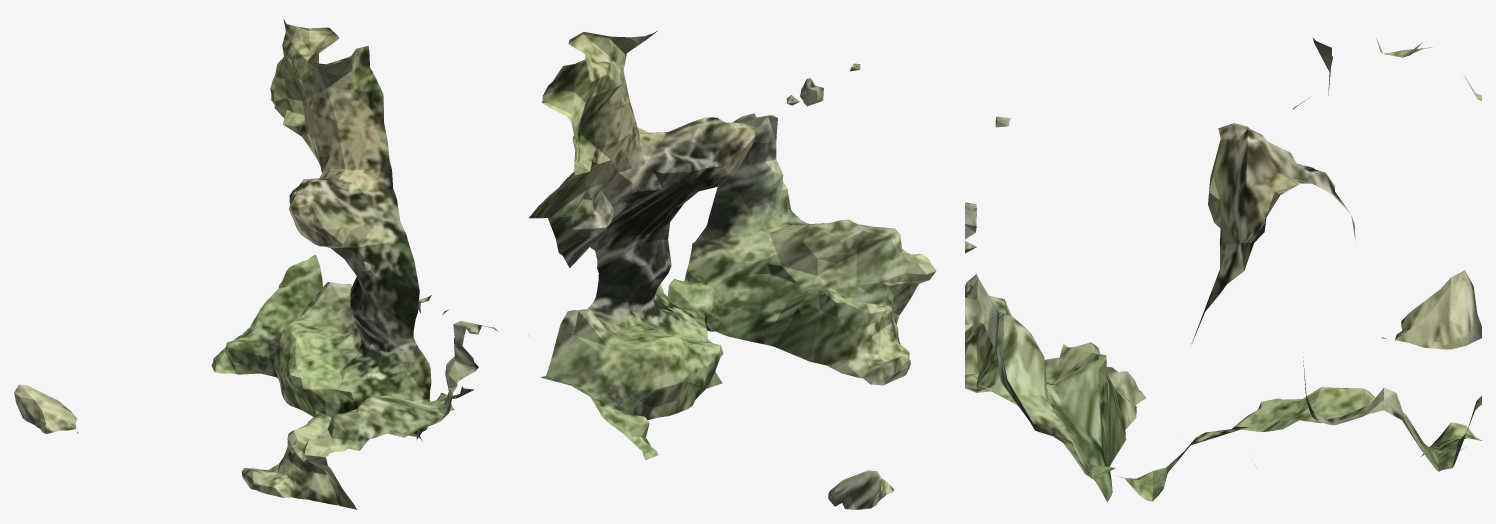
The picture shows the model from 3 angles, left to right: view 1: azimuth 30°, elevation 25°; view 2: azimuth 150°, elevation 25°; view 3: azimuth 270°, elevation 25°; orthographic projection. The views are drawn at different scales.
Bounding box in the file's own units: 5.69 × 5.9 × 5.9.
3 materials, 3 textured.
